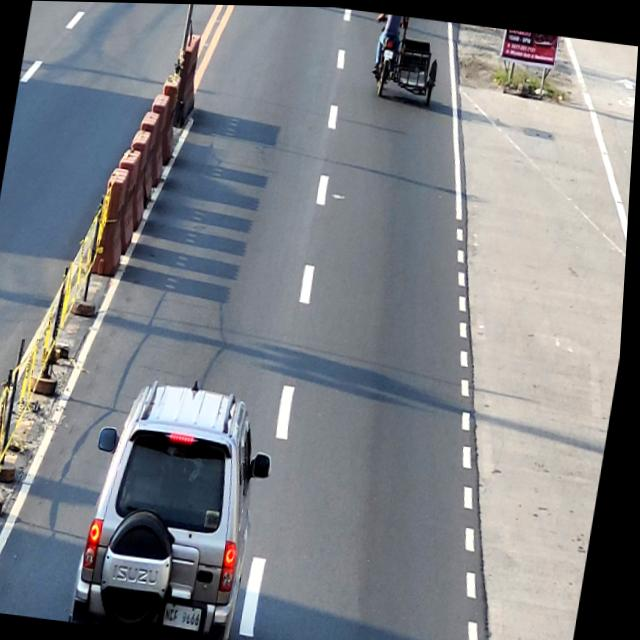Car: (74, 374, 287, 640)
License-Plate: (170, 603, 209, 629), (383, 47, 393, 57)
Tricycle: (370, 17, 445, 100)
